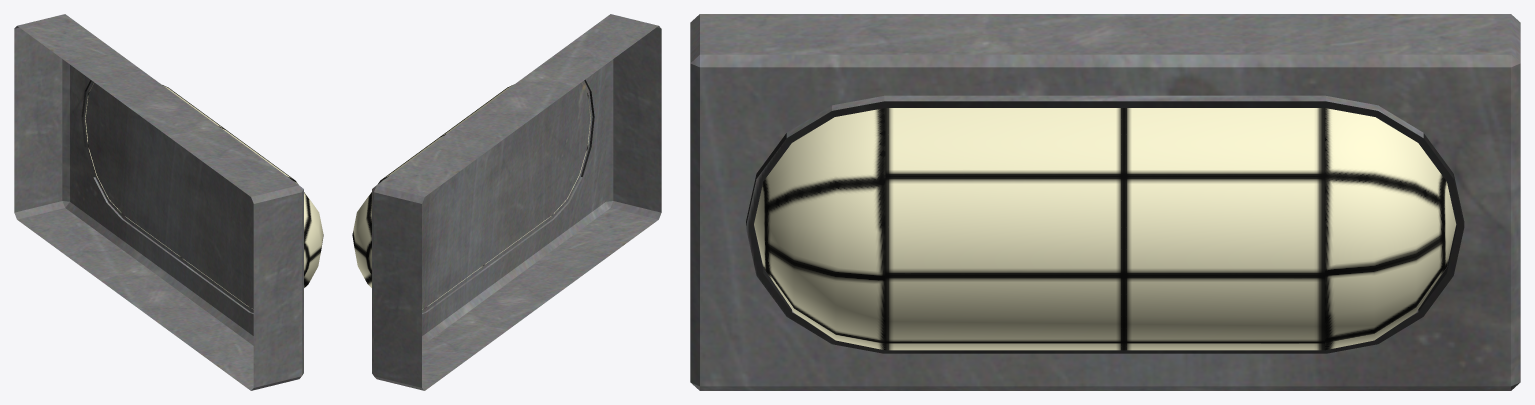
File: neonlamp.FBX
The picture shows the model from 3 angles, left to right: view 1: azimuth 30°, elevation 25°; view 2: azimuth 150°, elevation 25°; view 3: azimuth 270°, elevation 25°; orthographic projection. The views are drawn at different scales.
Visible parts, largest first — view 1: neonlamp; view 2: neonlamp; view 3: neonlamp.
Part boxes in pixels (x1,y1,x2,y2): neonlamp: [14, 14, 323, 390]; neonlamp: [352, 14, 661, 390]; neonlamp: [690, 14, 1520, 390].
Bounding box in the file's own units: 14.34 × 22.75 × 50.92.
